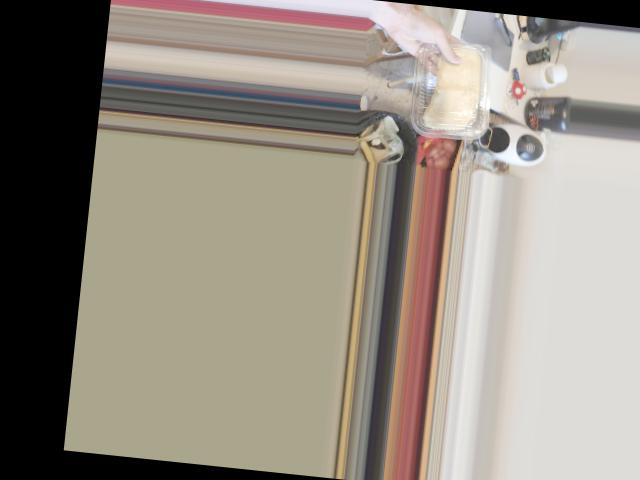cheese: (404, 41, 503, 135)
